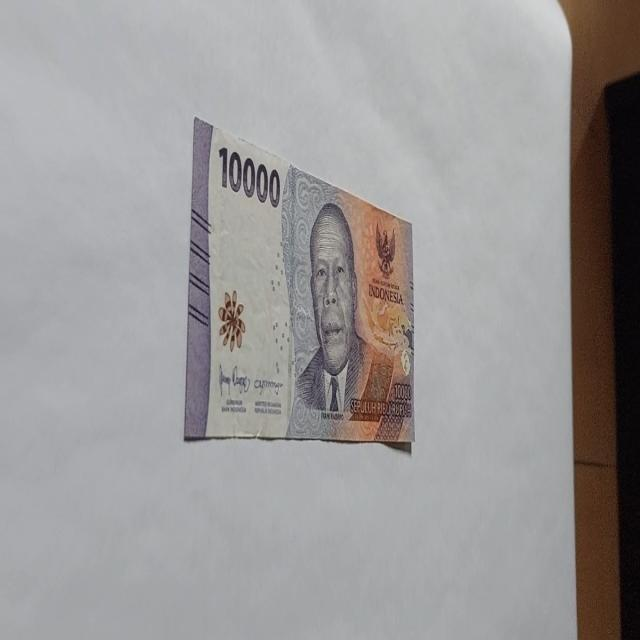sepuluh ribu rupiah: (183, 115, 416, 448), (288, 198, 397, 439)
